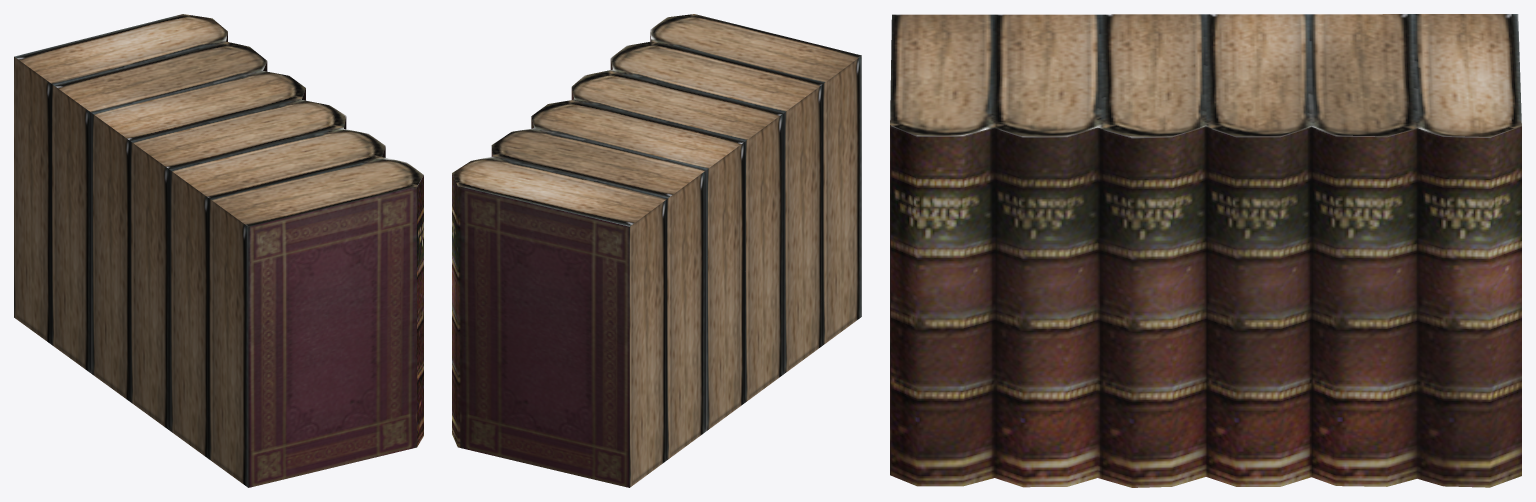
The model's file is Prop_Sm_BookSet_3_A.fbx.
3 views of the same model, side by side, from view 1: azimuth 30°, elevation 25°; view 2: azimuth 150°, elevation 25°; view 3: azimuth 270°, elevation 25° (orthographic). The views are drawn at different scales.
Visible parts, largest first — view 1: Tomb_2_low_1:polySurface24; view 2: Tomb_2_low_1:polySurface24; view 3: Tomb_2_low_1:polySurface24.
Boxes of the visible parts, x1,y1,x2,y2 form: Tomb_2_low_1:polySurface24: (14,14,423,487); Tomb_2_low_1:polySurface24: (452,14,861,487); Tomb_2_low_1:polySurface24: (890,14,1521,487).
Bounding box in the file's own units: 0.2386 × 0.3158 × 0.5159.
